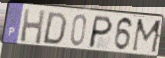0: (69, 13, 88, 47)
6: (113, 16, 136, 53)
D: (41, 11, 68, 46)
H: (19, 8, 46, 46)
M: (130, 18, 164, 56)
P: (87, 15, 115, 50)
